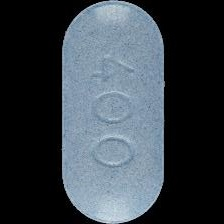66116-414: (0, 0, 224, 224)
